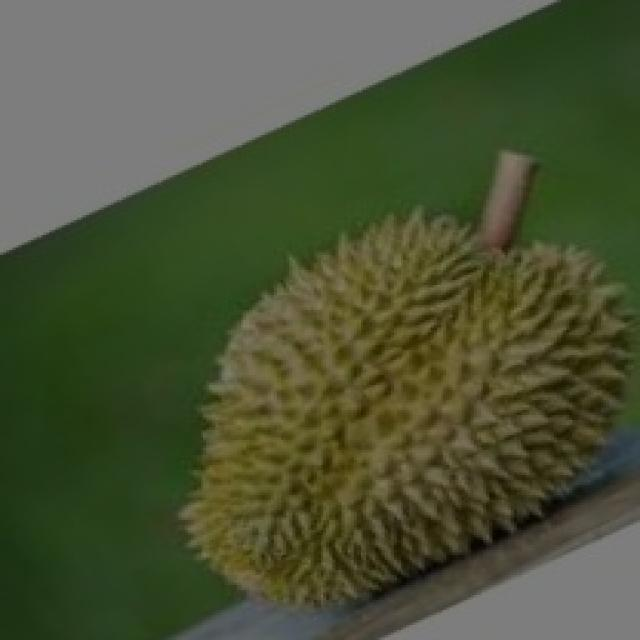fruit: (126, 222, 545, 640)
